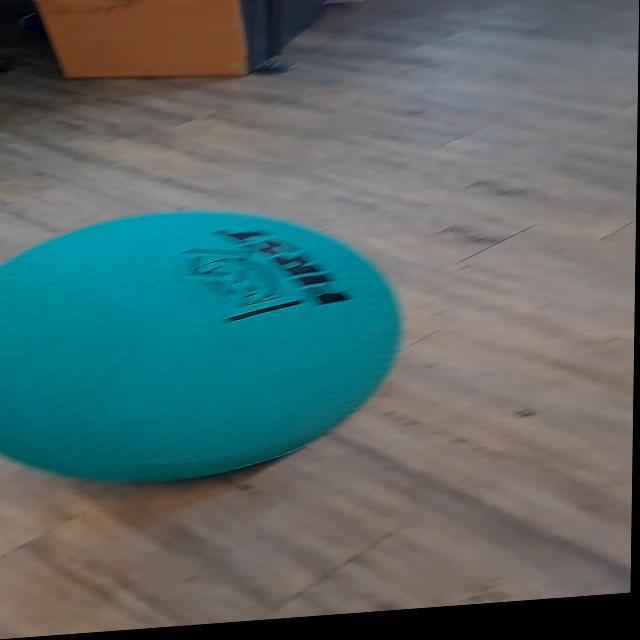ALGAE: (0, 192, 406, 496)
